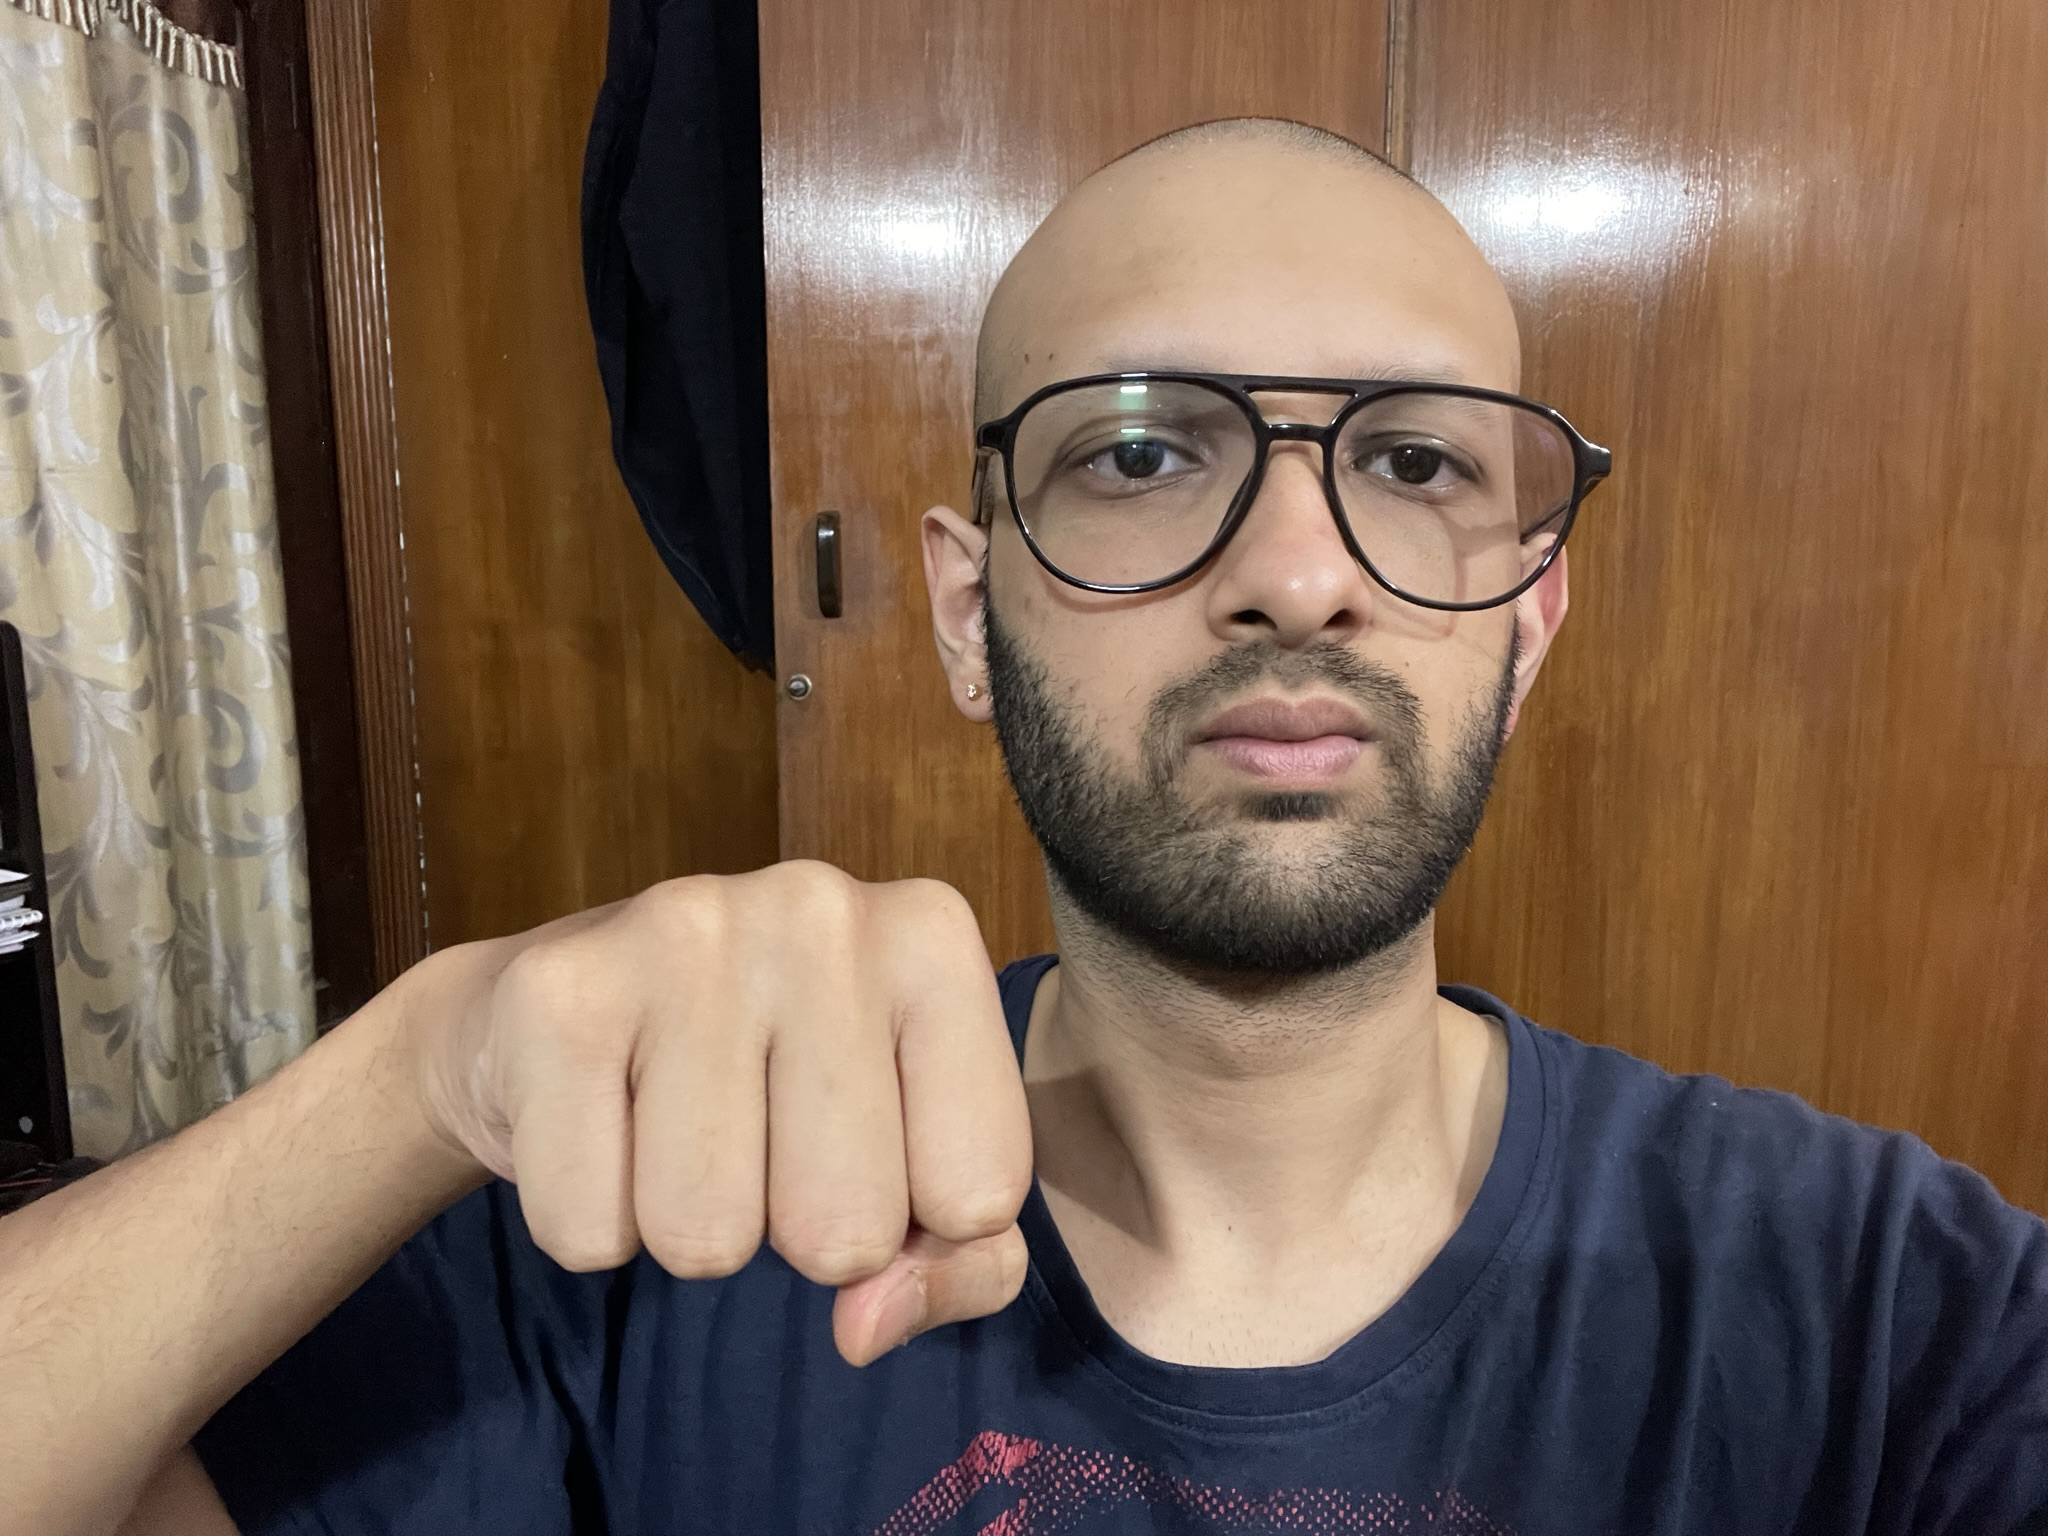Yes: (477, 836, 1047, 1365)
